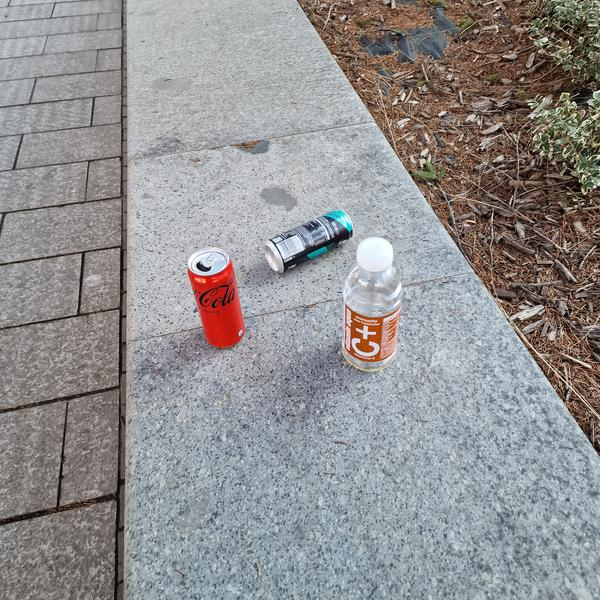can: (258, 201, 359, 280), (182, 241, 252, 354)
plastic_bottle: (333, 233, 408, 377)
